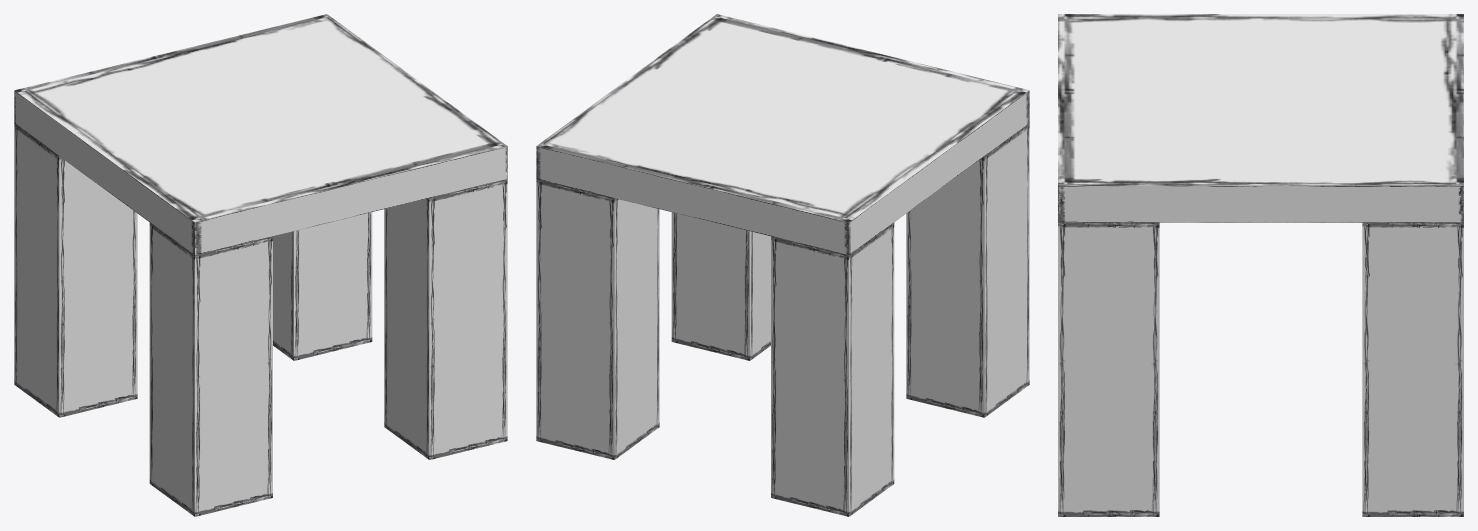
Rendered from LittleTable.fbx.
3 renders of one model, left to right at view 1: azimuth 30°, elevation 25°; view 2: azimuth 150°, elevation 25°; view 3: azimuth 270°, elevation 25°, orthographic. The views are drawn at different scales.
Visible parts, largest first — view 1: LittleTable; view 2: LittleTable; view 3: LittleTable.
Boxes of the visible parts, bbox=[...] form: LittleTable: bbox=[14, 14, 507, 516]; LittleTable: bbox=[536, 14, 1029, 516]; LittleTable: bbox=[1058, 14, 1463, 516].
Size of the model in its own units: 200 by 180 by 200.
